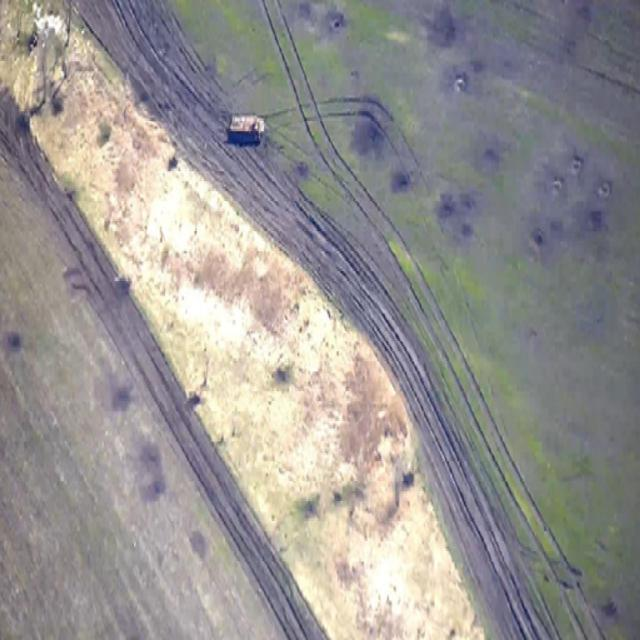APC-IFV: (222, 106, 268, 146)
